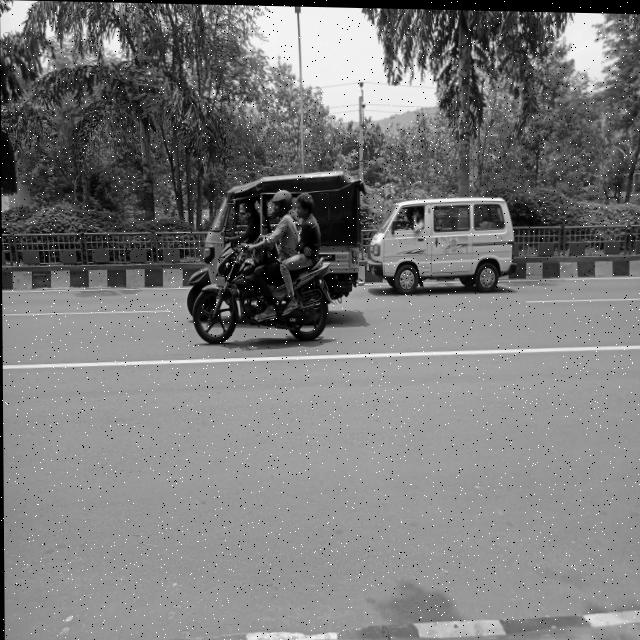bike: (193, 236, 336, 345)
car: (373, 196, 514, 299)
